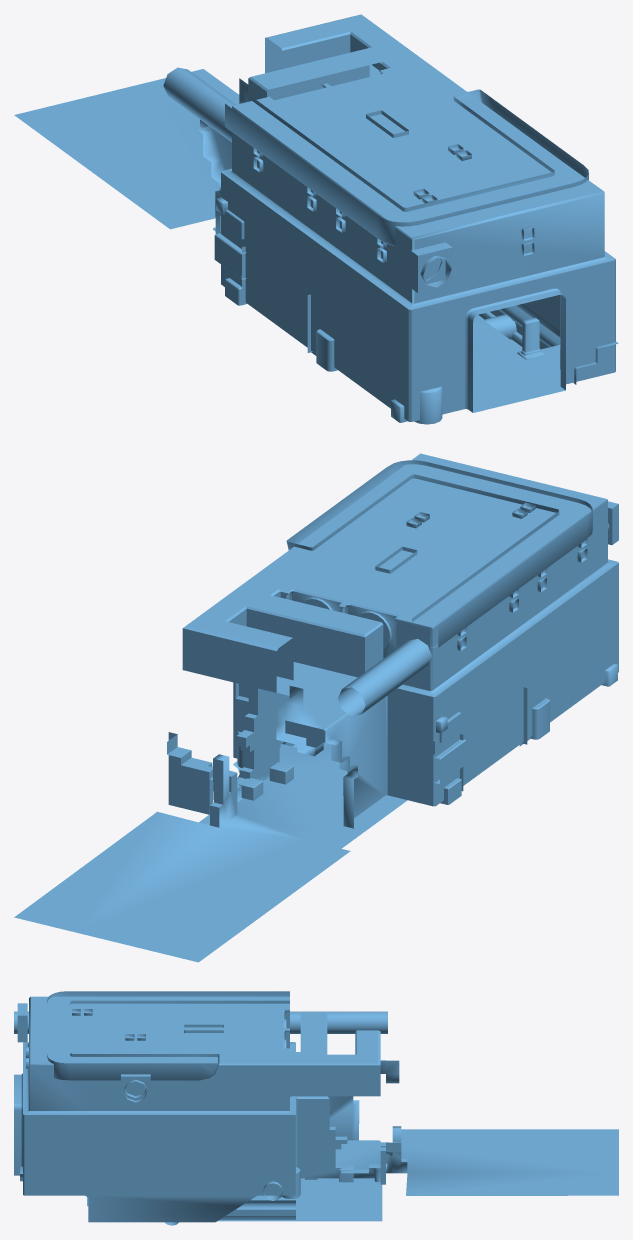
The model's file is effectproxies_warehouse_barrierfloor_stragglerhideout.fbx.
The picture shows the model from 3 angles, top to bottom: view 1: azimuth 30°, elevation 25°; view 2: azimuth 150°, elevation 25°; view 3: azimuth 270°, elevation 25°; orthographic projection. The views are drawn at different scales.
Parts seen in each view (by area): view 1: Barrier_floor02.003; view 2: Barrier_floor02.003; view 3: Barrier_floor02.003.
Part boxes in pixels (x1,y1,x2,y2): Barrier_floor02.003: (14,14,618,424); Barrier_floor02.003: (14,453,618,962); Barrier_floor02.003: (14,991,618,1225).
Bounding box in the file's own units: 31.25 × 30.15 × 102.
